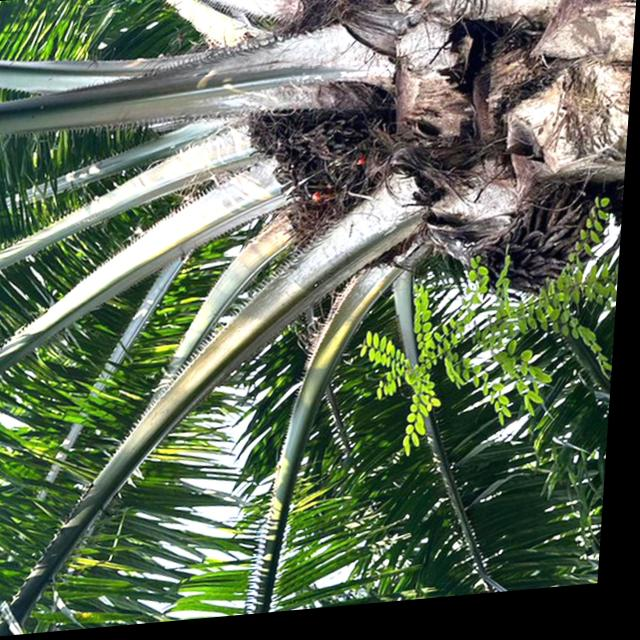ripe: (246, 112, 395, 256)
